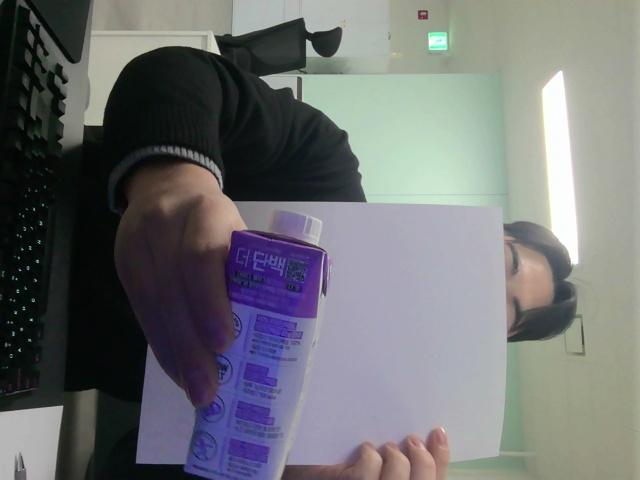milk: (184, 211, 329, 479)
